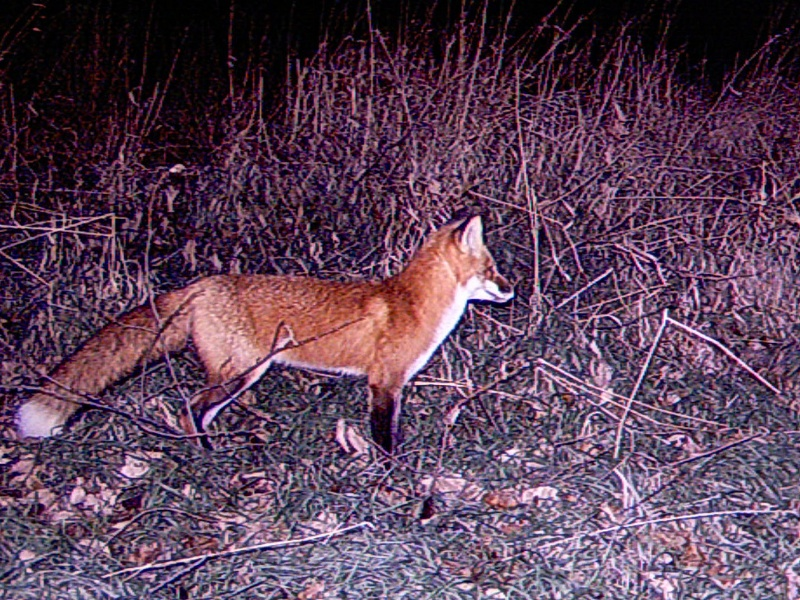fox: (14, 216, 518, 453)
